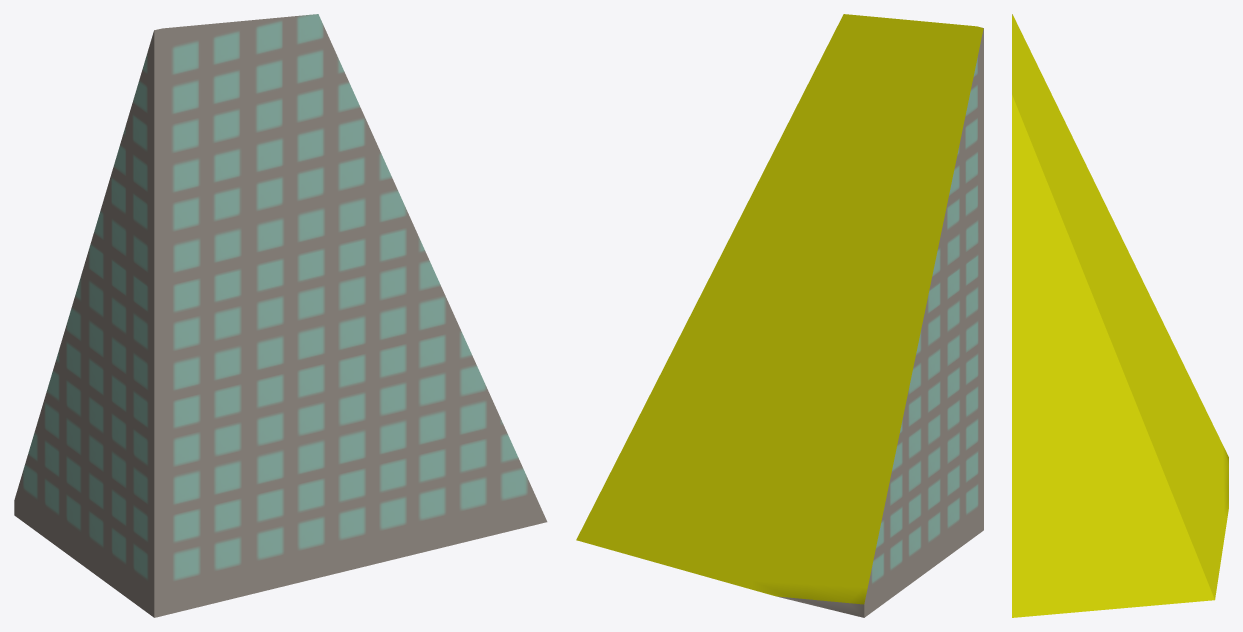
File: c2Shard4.fbx
The picture shows the model from 3 angles, left to right: view 1: azimuth 30°, elevation 25°; view 2: azimuth 150°, elevation 25°; view 3: azimuth 270°, elevation 25°; orthographic projection. The views are drawn at different scales.
Visible parts, largest first — view 1: shard72; view 2: shard72; view 3: shard72.
Boxes of the visible parts, x1,y1,x2,y2 form: shard72: (14, 14, 547, 617); shard72: (576, 14, 983, 617); shard72: (1012, 14, 1228, 617).
Bounding box in the file's own units: 0.1486 × 0.2123 × 0.0917.
Materials: 2 (1 with a texture image).
